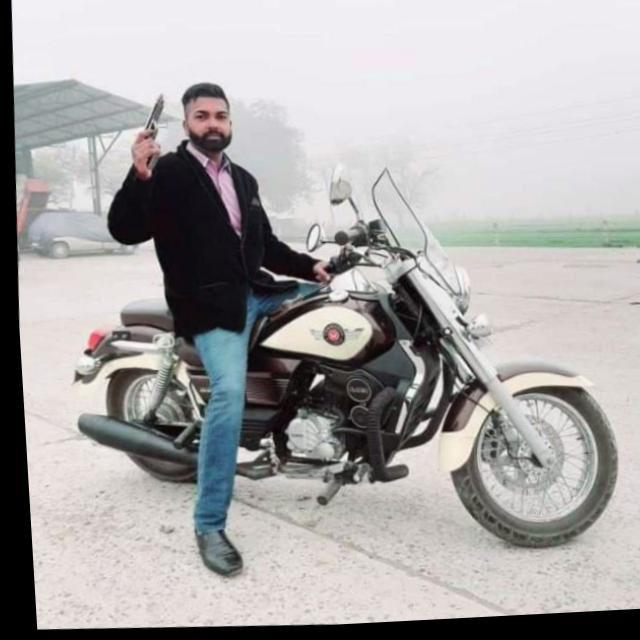weapon: (120, 92, 178, 176)
